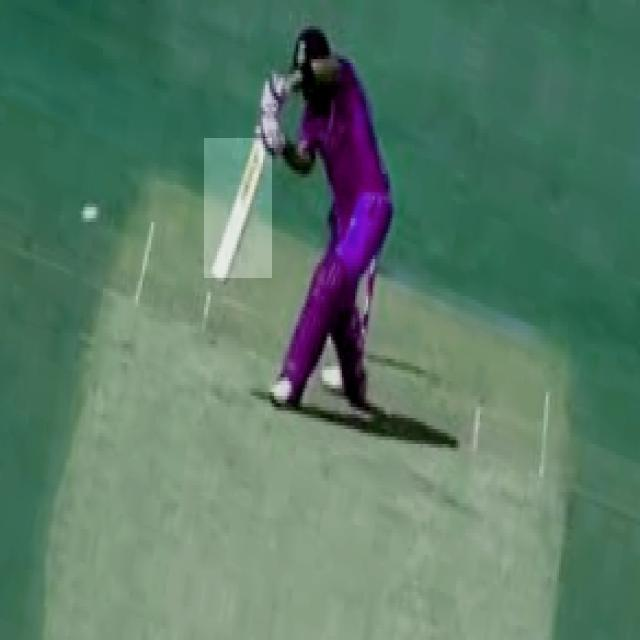bat: (206, 138, 276, 279)
toe: (205, 258, 237, 290)
